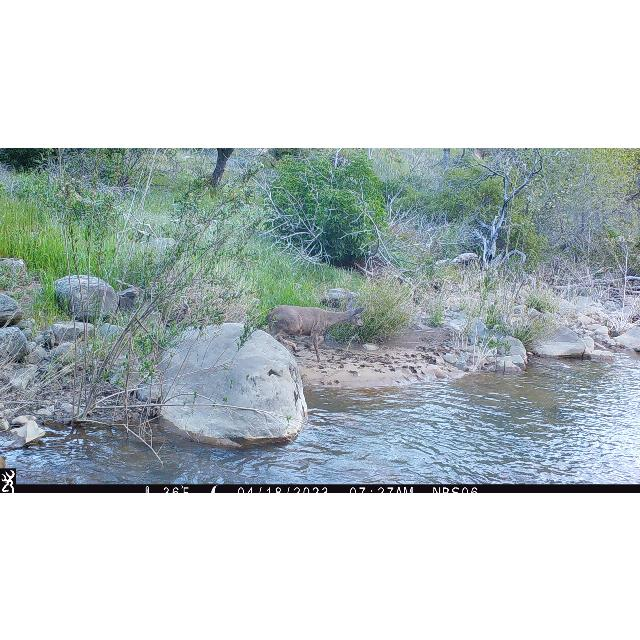animals: (264, 300, 366, 362)
